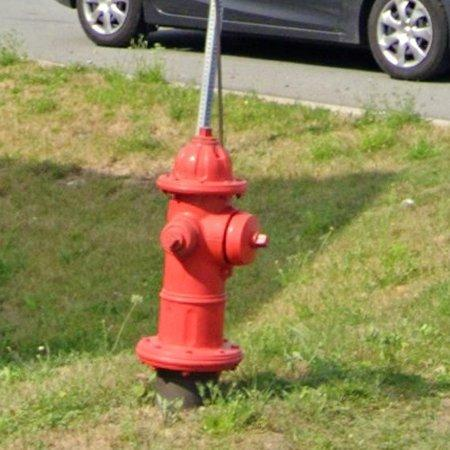a fire hydrant: (136, 128, 266, 374)
